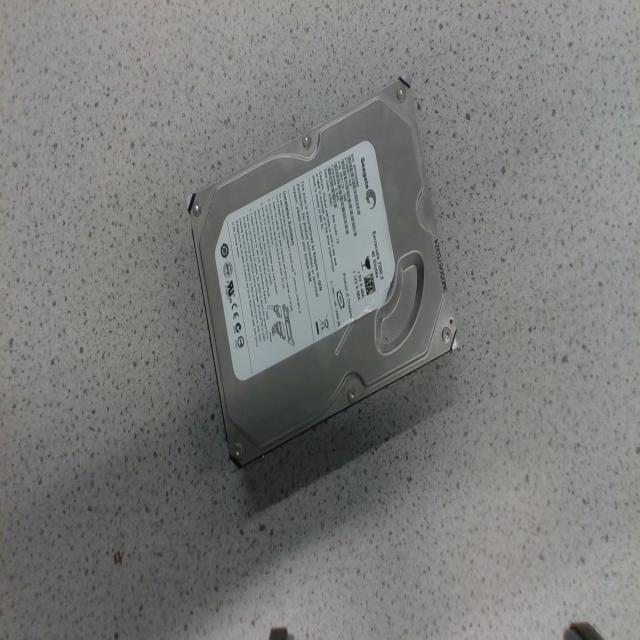label: (216, 141, 396, 380)
lid: (187, 77, 458, 466)
screw: (232, 443, 242, 462), (397, 86, 406, 102), (442, 327, 450, 342), (302, 135, 311, 148), (192, 205, 201, 216), (348, 389, 356, 399)
